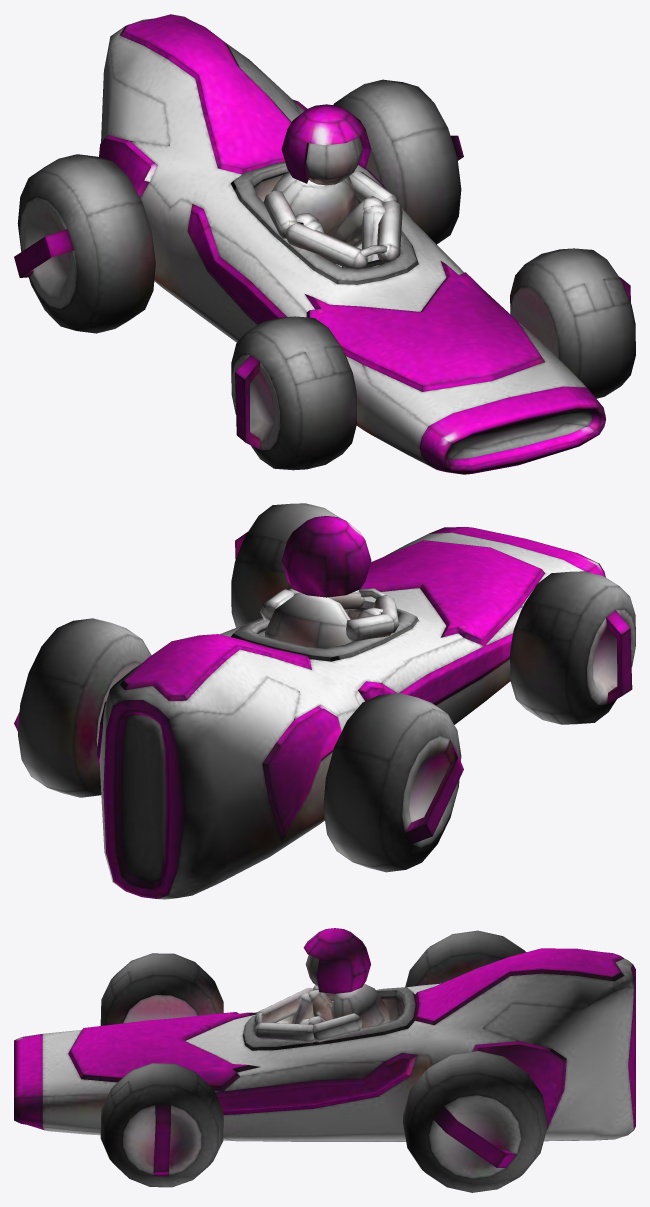
The model's file is car.obj.
3 views of the same model, one above another, from view 1: azimuth 30°, elevation 25°; view 2: azimuth 150°, elevation 25°; view 3: azimuth 270°, elevation 25° (orthographic). The views are drawn at different scales.
Parts seen in each view (by area): view 1: full_baked; view 2: full_baked; view 3: full_baked.
Boxes of the visible parts, x1,y1,x2,y2 form: full_baked: [14, 14, 635, 474]; full_baked: [14, 503, 635, 899]; full_baked: [14, 928, 635, 1192].
Size of the model in its own units: 24.18 by 13.7 by 39.1.
1 material, 1 textured.
